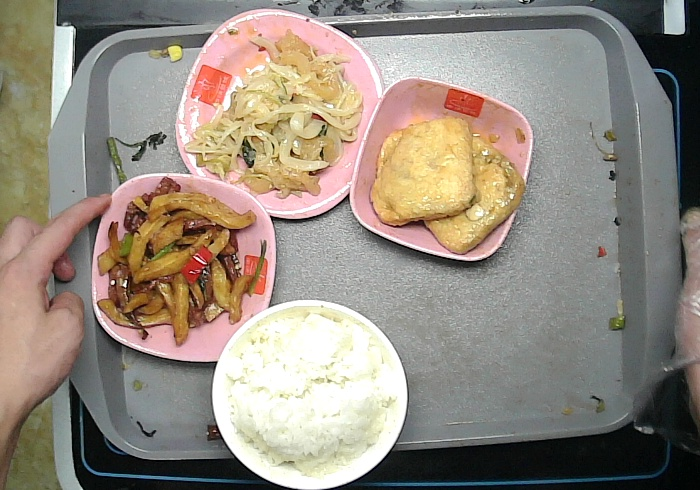SHKJ-Fan_Wan: (209, 300, 409, 490)
SHKJ-Fen_Se_Cai_Die: (90, 171, 278, 365)
SHKJ-Fen_Se_Si_Fang_Cai_Die: (172, 9, 382, 222)
SHKJ-Fen_Se_Xiao_Fang_Die: (346, 77, 534, 263)
